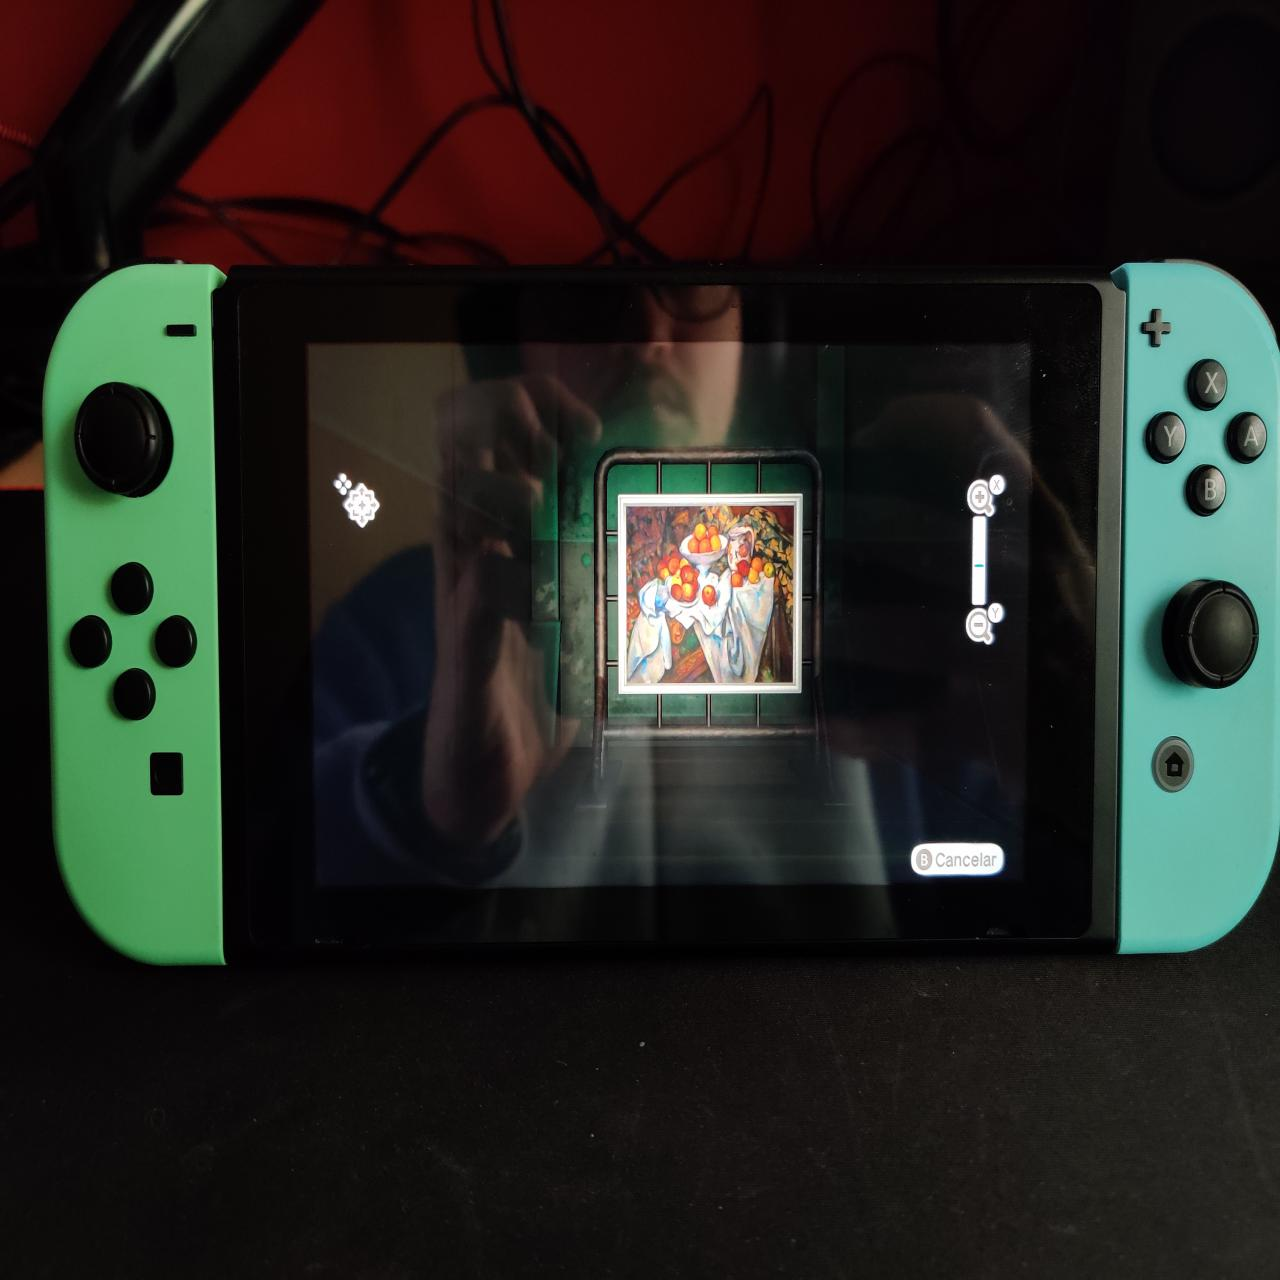AppleOrange: (627, 508, 794, 687)
